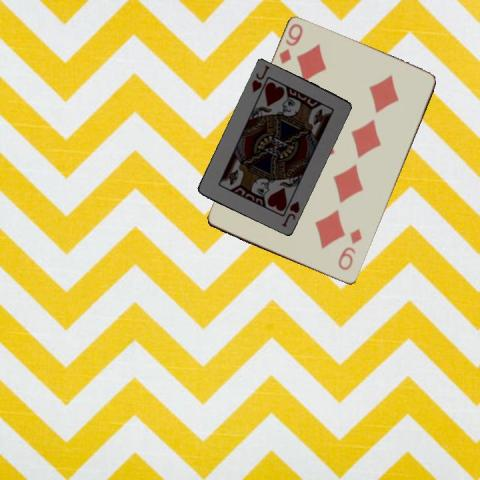9d: (335, 225, 364, 272), (276, 21, 305, 66)
Jh: (249, 62, 271, 93), (278, 198, 300, 228)
